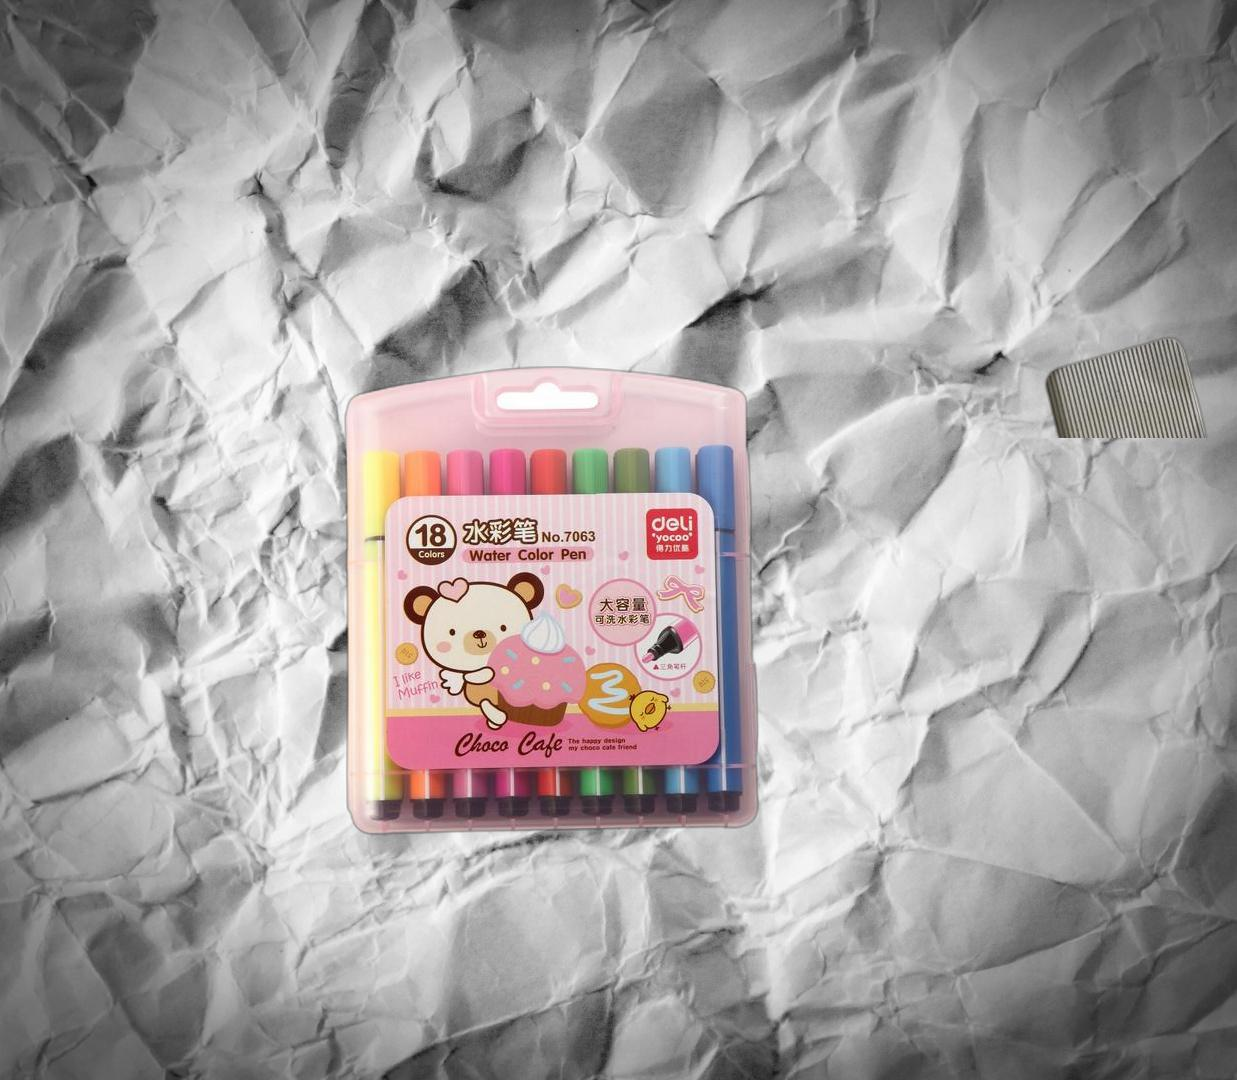paper: (962, 54, 1237, 439)
penholder: (340, 362, 763, 839)
